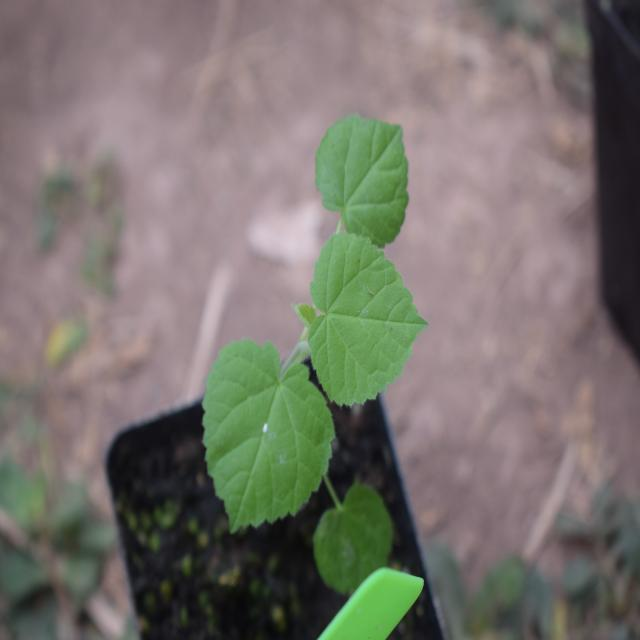abutilon theophrasti: (206, 107, 438, 556)
